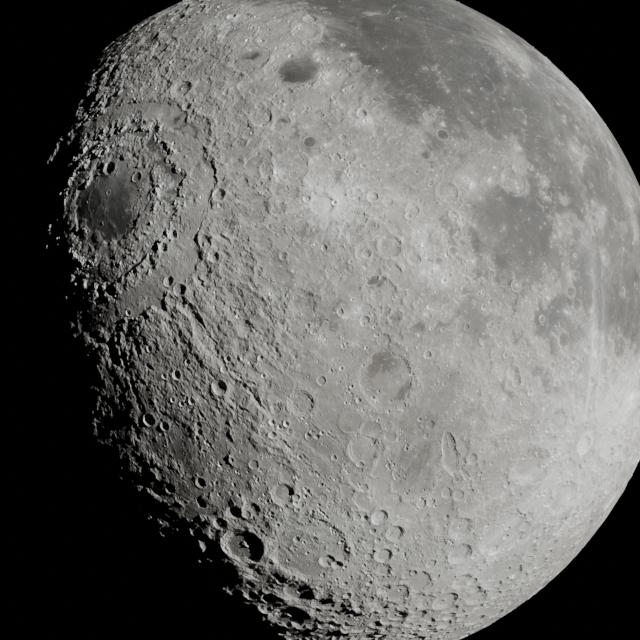crater: (218, 528, 266, 564), (278, 604, 311, 630), (171, 75, 195, 101), (210, 375, 235, 398), (273, 480, 295, 504), (387, 525, 408, 544), (101, 156, 120, 176), (259, 593, 279, 612), (372, 509, 391, 528), (192, 493, 212, 510), (141, 413, 159, 429), (210, 513, 231, 526), (226, 503, 243, 516), (195, 475, 209, 489)
rock: (238, 538, 252, 551)
